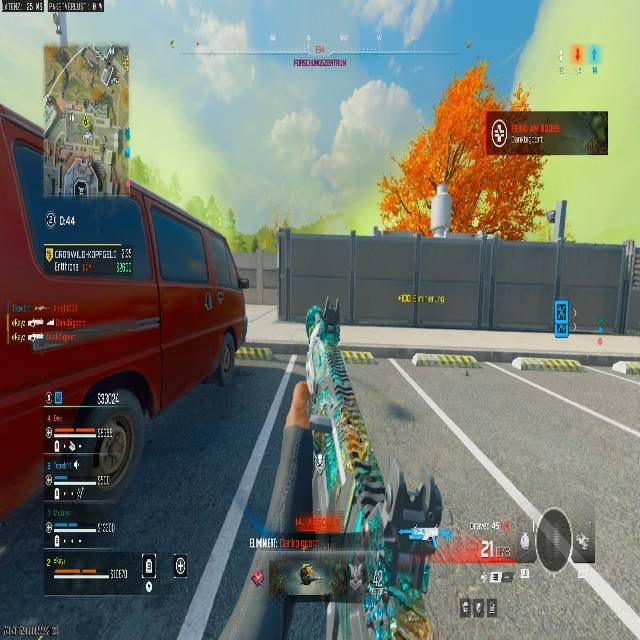player: (303, 301, 343, 354)
